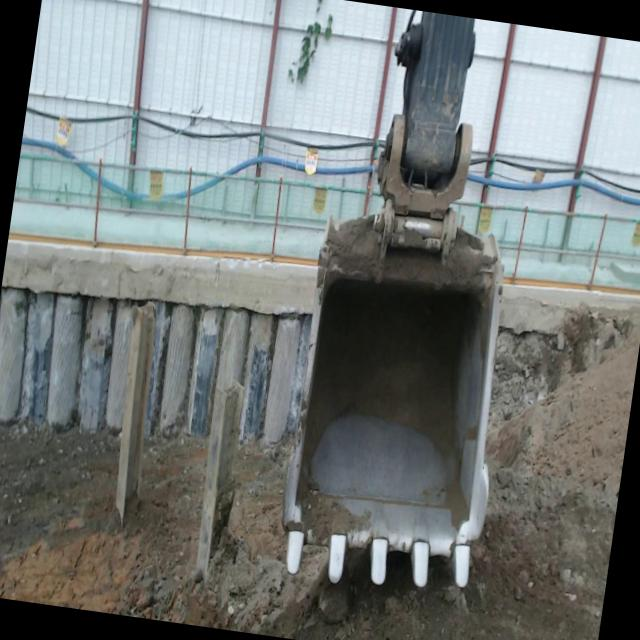cement: (2, 238, 317, 315), (499, 282, 640, 335)
sand: (0, 313, 640, 640)
